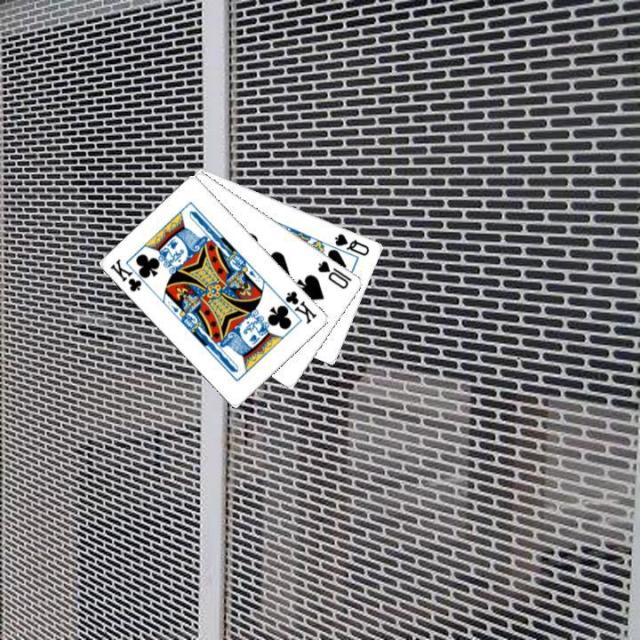10S: (314, 256, 354, 291)
KC: (274, 287, 319, 326), (107, 255, 152, 294)
QS: (331, 229, 372, 258)
